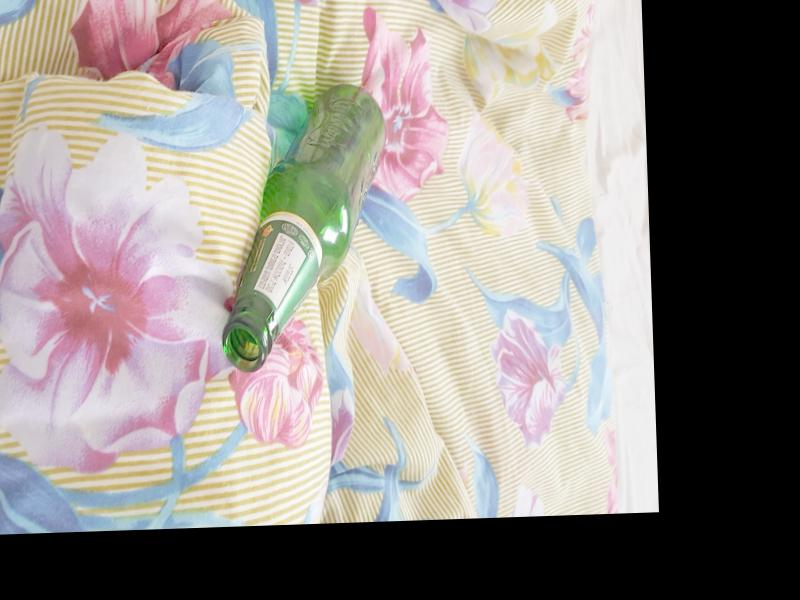Beer: (211, 86, 392, 371)
